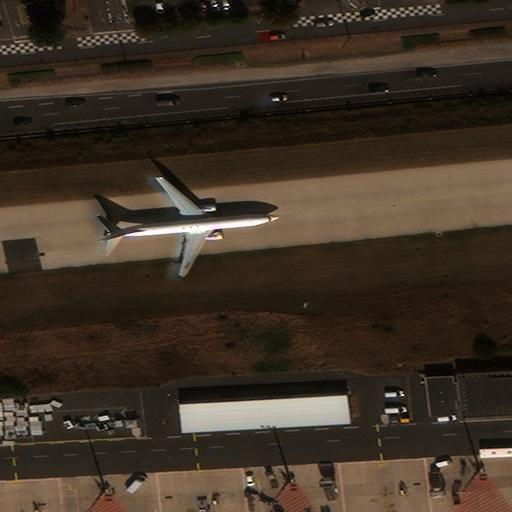Medium Civil Transport: (103, 177, 279, 276)
